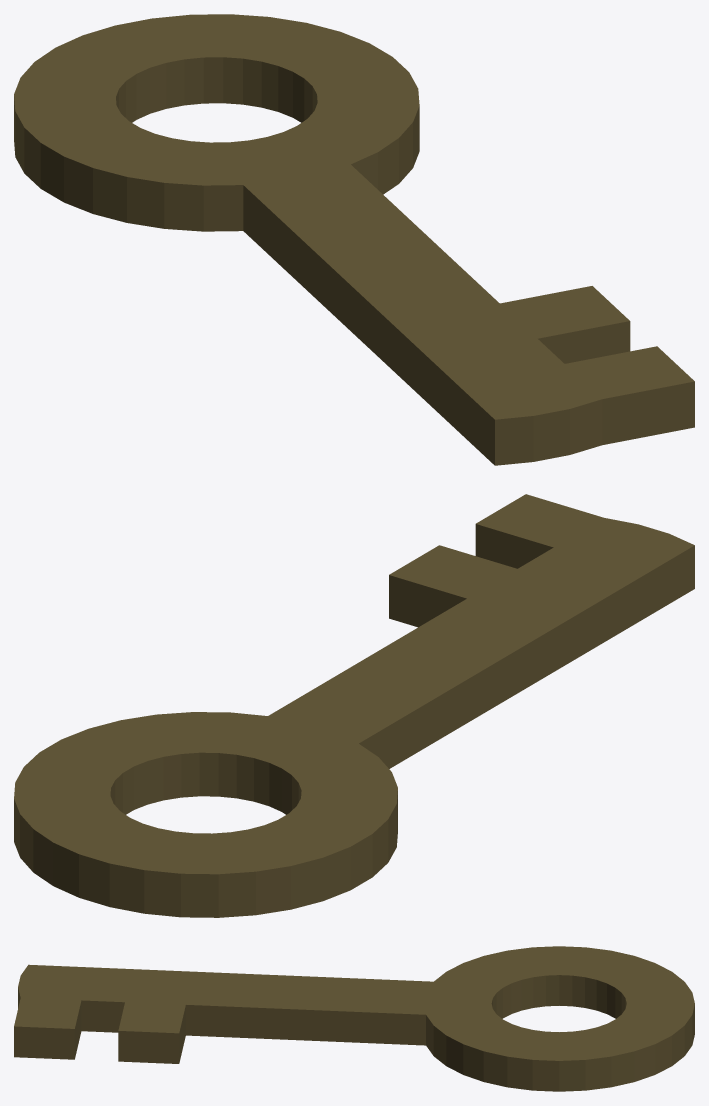
Rendered from Key_1.fbx.
3 views of the same model, one above another, from view 1: azimuth 30°, elevation 25°; view 2: azimuth 150°, elevation 25°; view 3: azimuth 270°, elevation 25° (orthographic). The views are drawn at different scales.
Visible parts, largest first — view 1: Circle; view 2: Circle; view 3: Circle.
Boxes of the visible parts, x1,y1,x2,y2 form: Circle: (14,14,694,465); Circle: (14,494,694,917); Circle: (14,946,694,1091).
Size of the model in its own units: 200 by 25 by 502.
